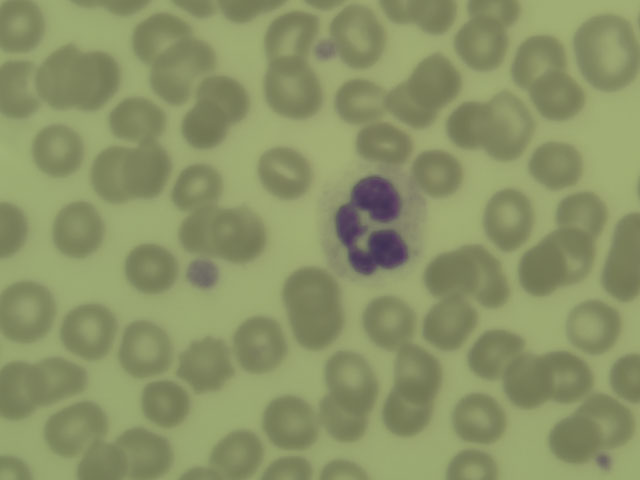Platelets: (185, 256, 222, 290), (314, 40, 337, 61)
RBC: (576, 17, 636, 83), (479, 95, 533, 159), (328, 6, 388, 63), (1, 280, 57, 338), (325, 349, 378, 409), (482, 189, 535, 248), (545, 229, 599, 284), (263, 398, 319, 449), (604, 217, 640, 293), (381, 388, 438, 436), (118, 319, 169, 372), (259, 150, 312, 197), (500, 357, 553, 404), (540, 350, 593, 397), (570, 300, 623, 347), (467, 325, 520, 372), (263, 65, 316, 112), (391, 349, 444, 396), (362, 297, 415, 344), (463, 254, 516, 301), (426, 299, 479, 346), (424, 250, 477, 297), (517, 245, 570, 292), (557, 187, 610, 234), (531, 138, 584, 185), (413, 148, 466, 195), (355, 118, 408, 165), (333, 75, 386, 122), (389, 77, 442, 124), (408, 54, 461, 101), (442, 101, 495, 148), (456, 22, 509, 69), (532, 74, 585, 121), (511, 36, 564, 83), (266, 9, 319, 56), (135, 15, 188, 62), (292, 302, 345, 349), (284, 265, 337, 312), (234, 318, 287, 365), (179, 342, 232, 389), (139, 378, 192, 425), (120, 430, 173, 477), (34, 355, 87, 402), (63, 305, 116, 352), (51, 206, 104, 253), (126, 244, 179, 291), (178, 205, 231, 252), (215, 208, 268, 255), (173, 163, 226, 210), (126, 145, 179, 192), (89, 151, 142, 198), (112, 93, 165, 140), (33, 127, 86, 174), (67, 57, 120, 104), (35, 52, 88, 99), (197, 70, 250, 117), (175, 102, 228, 149), (580, 397, 633, 444), (547, 415, 600, 462), (453, 394, 506, 441), (209, 431, 262, 478), (320, 391, 373, 438), (49, 404, 102, 450), (1, 64, 52, 111), (1, 363, 43, 419), (1, 1, 52, 47), (76, 447, 136, 480), (445, 446, 500, 480), (404, 1, 457, 35), (170, 32, 216, 71), (467, 1, 521, 30), (143, 62, 187, 97), (1, 205, 30, 256), (608, 353, 640, 399), (317, 451, 367, 479), (265, 455, 313, 479), (1, 449, 34, 479)
WBC: (322, 172, 427, 278)
